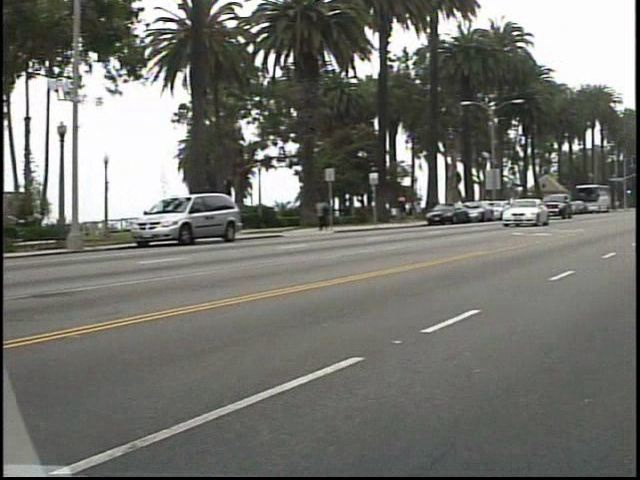person: (321, 196, 343, 236), (402, 190, 422, 225)
